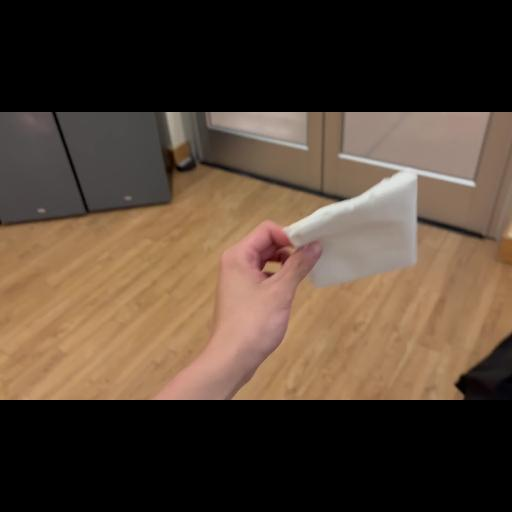napkin: (282, 169, 416, 289)
